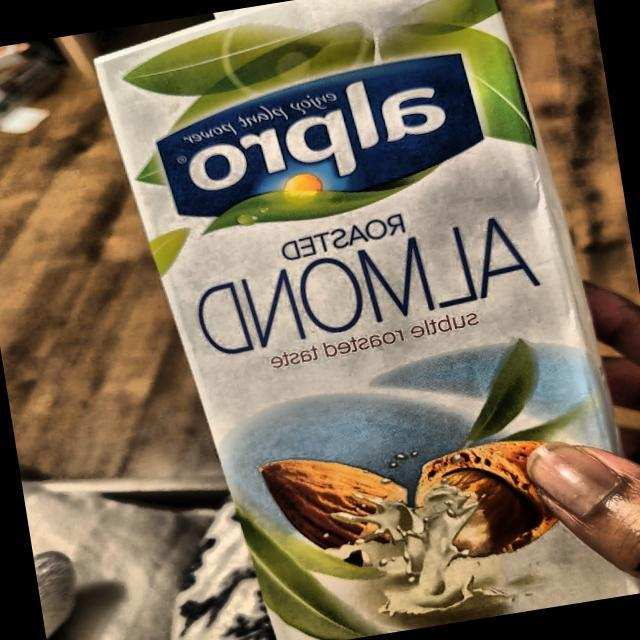cardboard: (87, 0, 640, 640)
